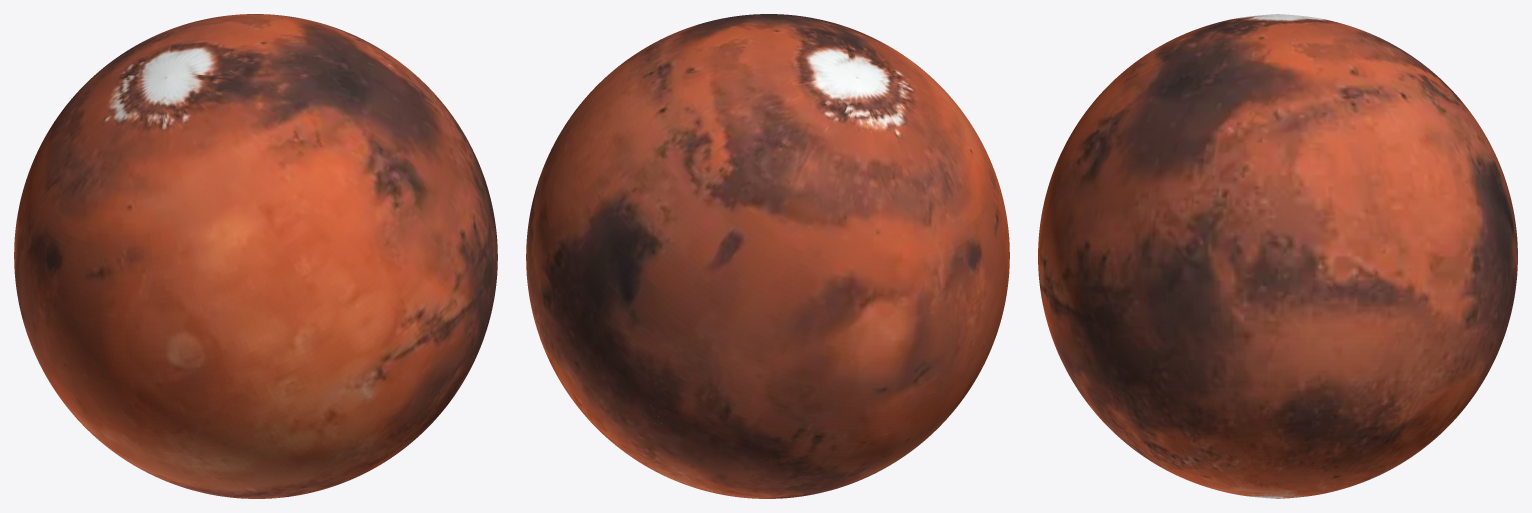
3 views of the same model, side by side, from view 1: azimuth 30°, elevation 25°; view 2: azimuth 150°, elevation 25°; view 3: azimuth 270°, elevation 25° (orthographic).
Visible parts, largest first — view 1: 4. mars; view 2: 4. mars; view 3: 4. mars.
Boxes of the visible parts, box(x1,y1,x2,y2) form: 4. mars: box(14, 14, 497, 498); 4. mars: box(526, 14, 1009, 498); 4. mars: box(1038, 14, 1517, 498).
Size of the model in its own units: 2.77 by 2.78 by 2.76.
1 material, 1 textured.
